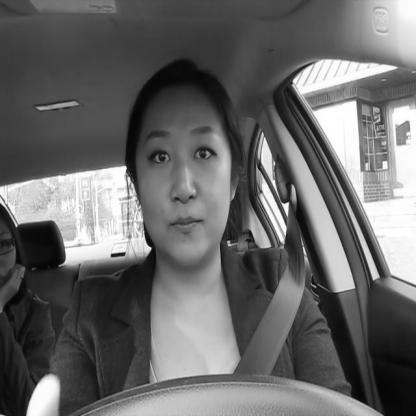seatbelt: (122, 54, 314, 395)
